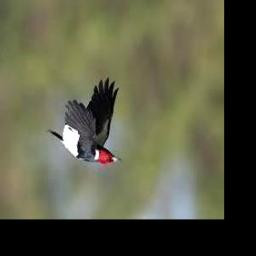Woodpecker: (46, 78, 122, 166)
